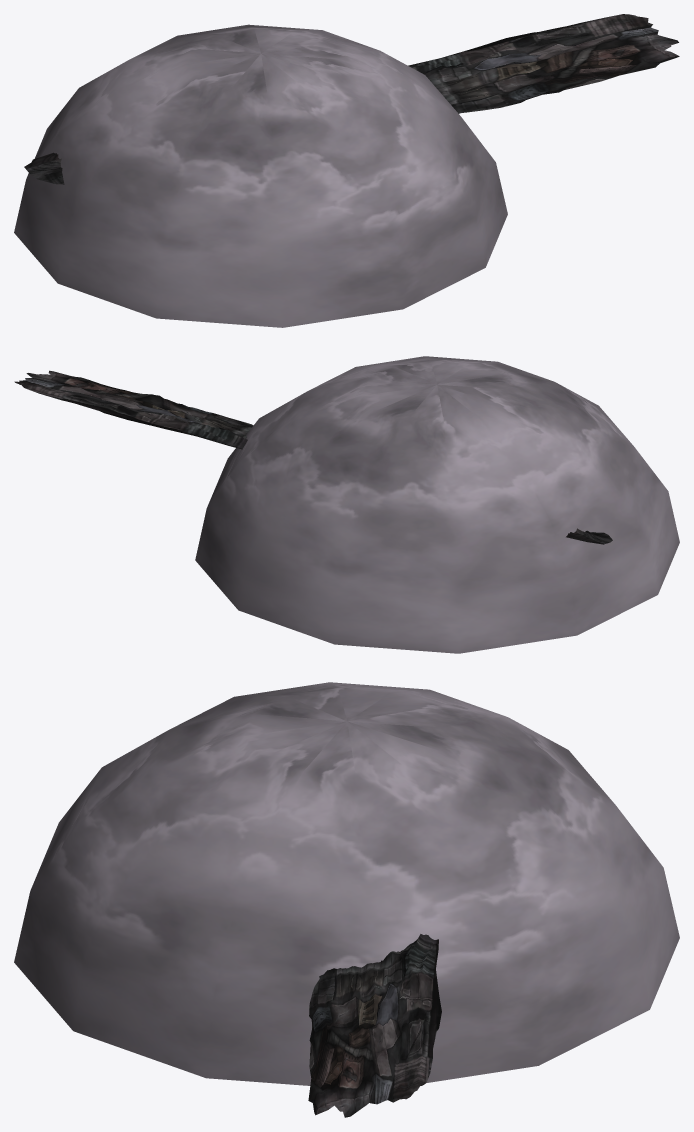
The model's file is env_ordm_junkyard_train_01_pre.glb.
3 views of the same model, one above another, from view 1: azimuth 30°, elevation 25°; view 2: azimuth 150°, elevation 25°; view 3: azimuth 270°, elevation 25° (orthographic). The views are drawn at different scales.
Parts seen in each view (by area): view 1: skybox_01_mesh, 2 - atm_terrain_01_mesh (×2); view 2: skybox_01_mesh, 2 - atm_terrain_01_mesh (×2); view 3: skybox_01_mesh, 2 - atm_terrain_01_mesh.
Boxes of the visible parts, <box> form: skybox_01_mesh: <box>14,24,507,327</box>; 2 - atm_terrain_01_mesh (×2): <box>24,14,679,184</box>; skybox_01_mesh: <box>195,356,679,653</box>; 2 - atm_terrain_01_mesh (×2): <box>14,370,612,544</box>; skybox_01_mesh: <box>14,682,679,1085</box>; 2 - atm_terrain_01_mesh: <box>308,934,441,1117</box>.
Bounding box in the file's own units: 542 × 139 × 367.
Materials: 13 (13 with a texture image).
